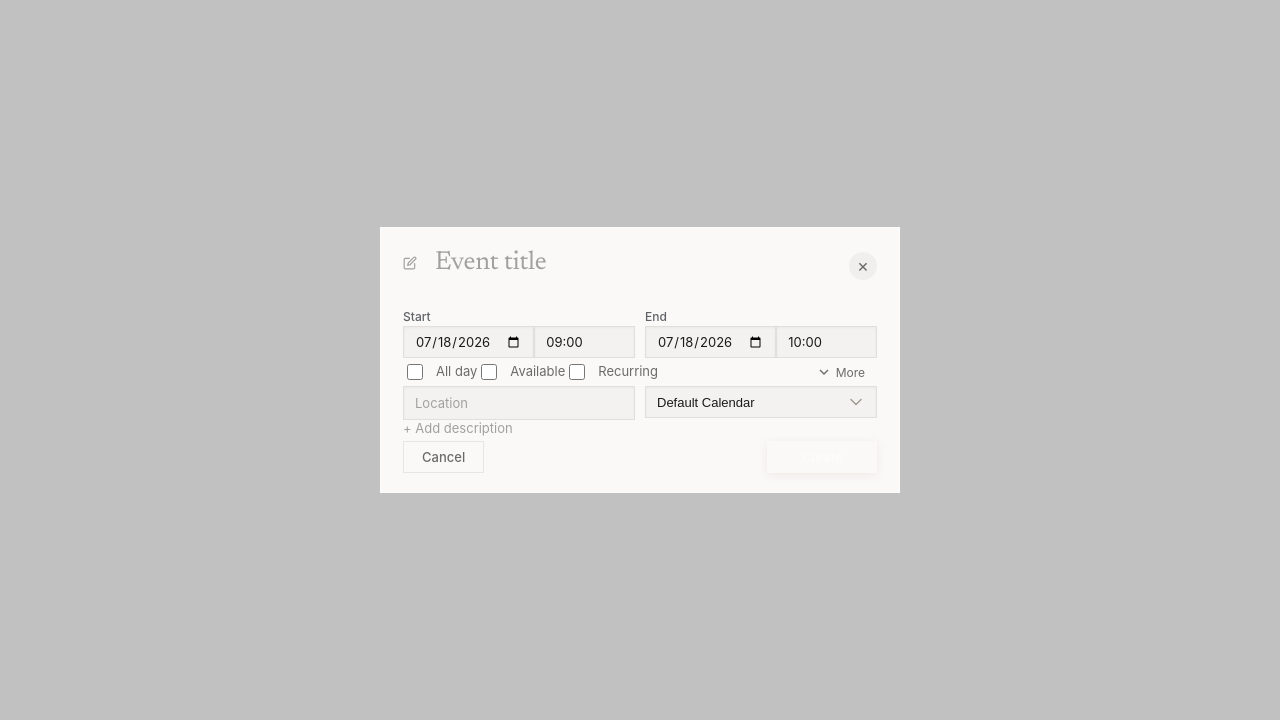
EventModal › shows recurrence dropdown after enabling Recurring
Click the checkbox labelled "Recurring".
click(577, 372)  # box [569,364,585,380]
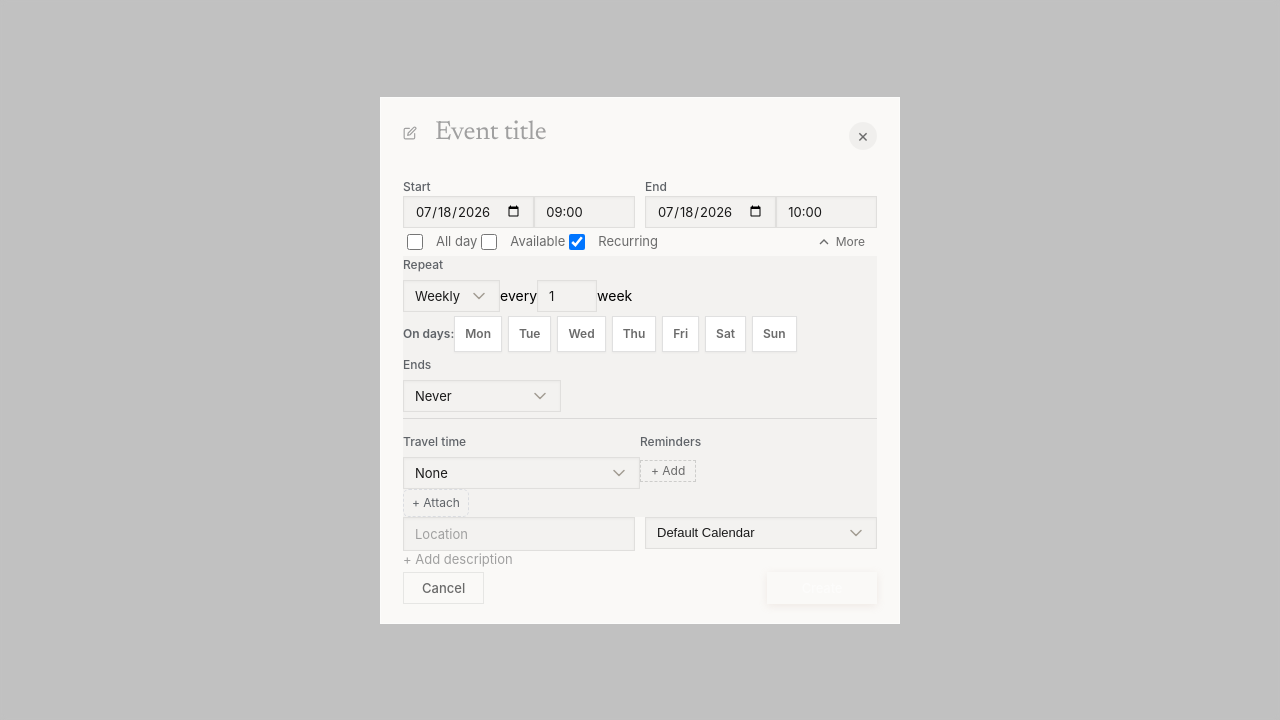
Check: the dropdown labelled "Repeat" is shown, box [403,280,500,312]
